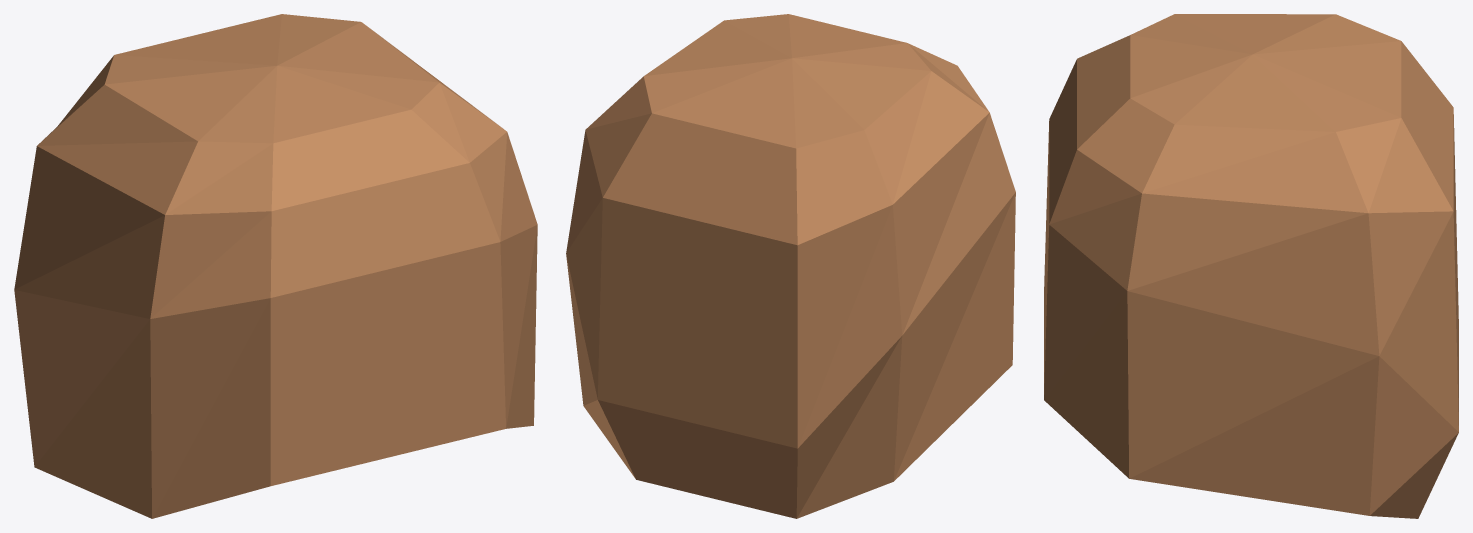
Rendered from scalp-cap-f.glb.
3 renders of one model, left to right at view 1: azimuth 30°, elevation 25°; view 2: azimuth 150°, elevation 25°; view 3: azimuth 270°, elevation 25°, orthographic. The views are drawn at different scales.
Visible parts, largest first — view 1: scalp-cap-f-0; view 2: scalp-cap-f-0; view 3: scalp-cap-f-0.
Part boxes in pixels (x1,y1,x2,y2): scalp-cap-f-0: (14,14,537,518); scalp-cap-f-0: (566,14,1015,518); scalp-cap-f-0: (1044,14,1458,518).
Size of the model in its own units: 0.1804 by 0.1978 by 0.1764.
